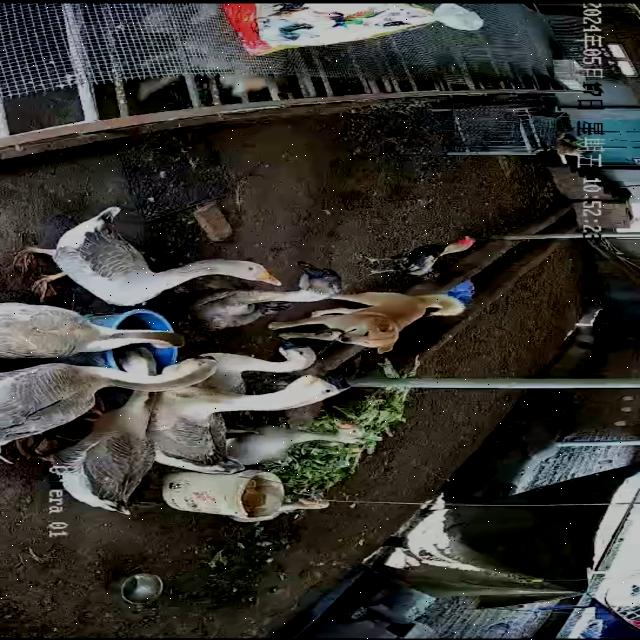dog: (269, 291, 468, 355)
